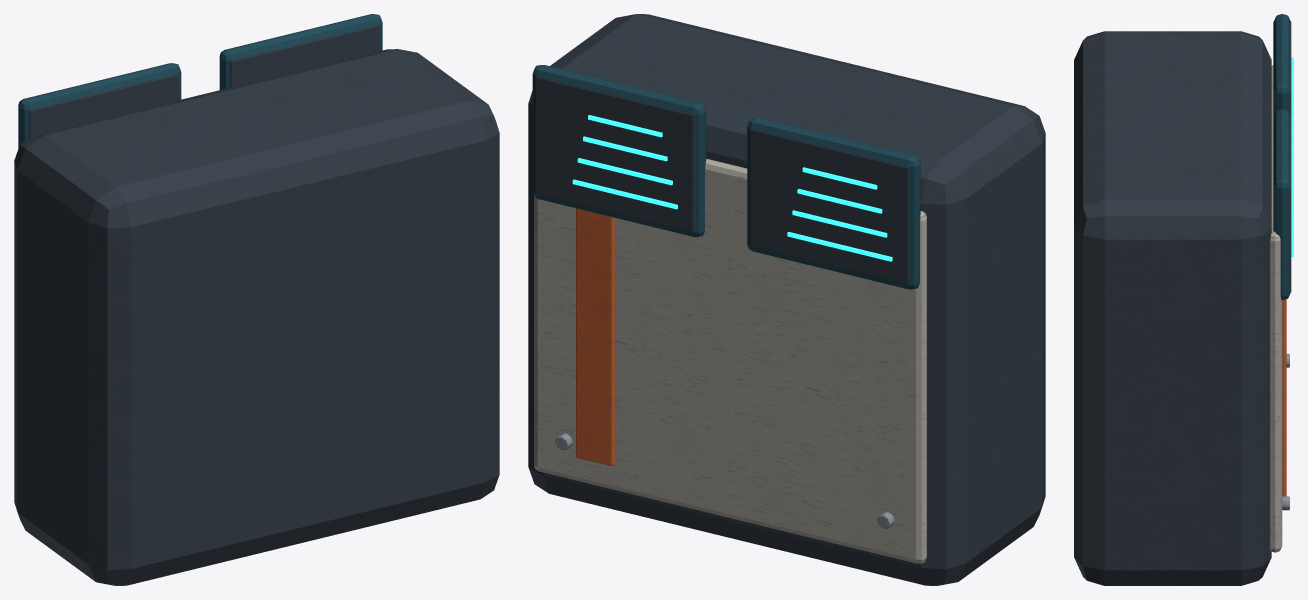
Rendered from control-console.glb.
3 renders of one model, left to right at view 1: azimuth 30°, elevation 25°; view 2: azimuth 150°, elevation 25°; view 3: azimuth 270°, elevation 25°, orthographic. The views are drawn at different scales.
Parts seen in each view (by area): view 1: Equipment frame, Remnant0, Remnant1, Target0, Target1; view 2: Painted panel, Equipment frame, Remnant0, Remnant1, Orange stripe, Target1, Target0; view 3: Equipment frame, Painted panel, Target1, Target0, Orange stripe, Remnant1, Remnant0.
Part boxes in pixels (bbox=[...]): Equipment frame: bbox=[14, 49, 499, 585]; Remnant0: bbox=[29, 74, 178, 138]; Remnant1: bbox=[230, 24, 379, 87]; Target0: bbox=[18, 63, 181, 148]; Target1: bbox=[219, 14, 382, 89]; Painted panel: bbox=[534, 158, 926, 563]; Equipment frame: bbox=[528, 14, 1045, 585]; Remnant0: bbox=[750, 128, 909, 284]; Remnant1: bbox=[535, 76, 694, 232]; Orange stripe: bbox=[576, 208, 614, 465]; Target1: bbox=[532, 65, 706, 237]; Target0: bbox=[747, 117, 920, 289]; Equipment frame: bbox=[1074, 31, 1271, 585]; Painted panel: bbox=[1270, 65, 1282, 552]; Target1: bbox=[1274, 109, 1290, 300]; Target0: bbox=[1274, 14, 1290, 113]; Orange stripe: bbox=[1282, 299, 1286, 496]; Remnant1: bbox=[1273, 116, 1291, 292]; Remnant0: bbox=[1273, 21, 1291, 116].
Size of the model in its own units: 1.5 by 1.47 by 0.723.
Materials: 6 (5 with a texture image).
